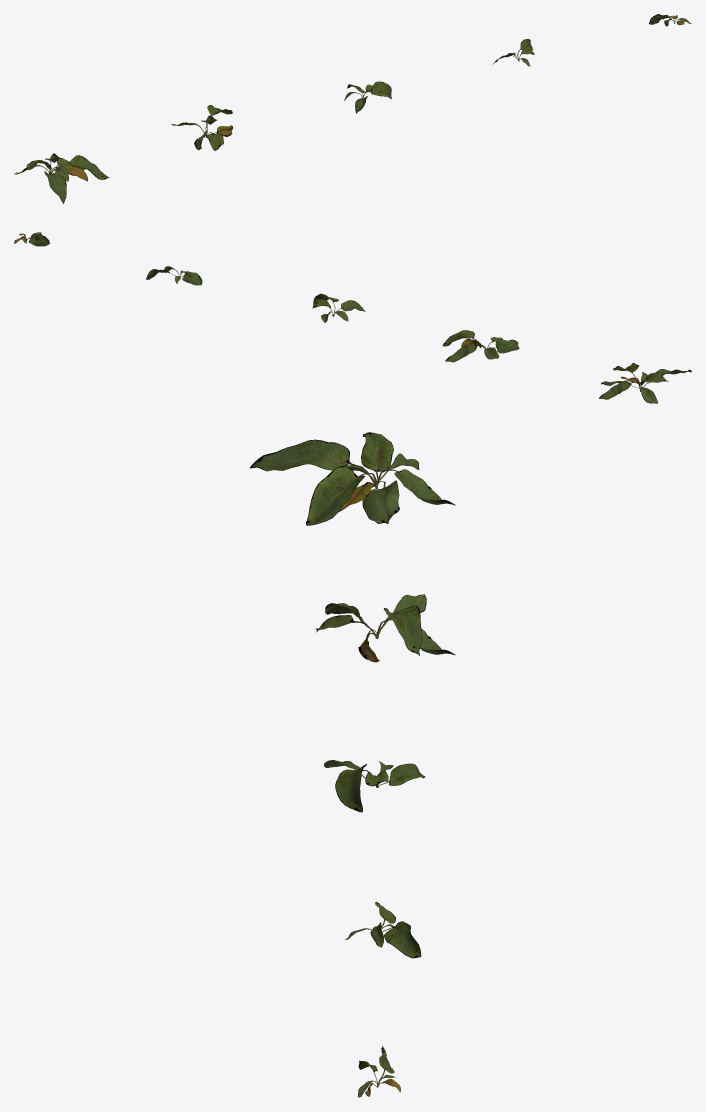
The model's file is weed_plant_02_1k_md.glb.
3 renders of one model, top to bottom at view 1: azimuth 30°, elevation 25°; view 2: azimuth 150°, elevation 25°; view 3: azimuth 270°, elevation 25°, orthographic. The views are drawn at different scales.
Parts seen in each view (by area): view 1: weed_plant_02_a_LOD0, weed_plant_02_b_LOD0, weed_plant_02_c_LOD0, weed_plant_02_d_LOD0; view 2: weed_plant_02_a_LOD0, weed_plant_02_b_LOD0, weed_plant_02_c_LOD0, weed_plant_02_d_LOD0, weed_plant_02_e_LOD0; view 3: weed_plant_02_a_LOD0, weed_plant_02_b_LOD0, weed_plant_02_c_LOD0, weed_plant_02_d_LOD0.
Part boxes in pixels (x1=…): weed_plant_02_a_LOD0: x1=14, y1=153, x2=109, y2=203; weed_plant_02_b_LOD0: x1=171, y1=105, x2=232, y2=150; weed_plant_02_c_LOD0: x1=344, y1=81, x2=391, y2=113; weed_plant_02_d_LOD0: x1=493, y1=39, x2=534, y2=66; weed_plant_02_a_LOD0: x1=599, y1=363, x2=691, y2=403; weed_plant_02_b_LOD0: x1=442, y1=330, x2=519, y2=362; weed_plant_02_c_LOD0: x1=312, y1=293, x2=365, y2=322; weed_plant_02_d_LOD0: x1=146, y1=266, x2=202, y2=285; weed_plant_02_e_LOD0: x1=14, y1=232, x2=49, y2=246; weed_plant_02_a_LOD0: x1=250, y1=432, x2=455, y2=525; weed_plant_02_b_LOD0: x1=315, y1=594, x2=455, y2=662; weed_plant_02_c_LOD0: x1=324, y1=760, x2=425, y2=812; weed_plant_02_d_LOD0: x1=345, y1=902, x2=421, y2=958.
Bounding box in the file's own units: 2.13 × 0.0751 × 0.2909.
1 material, 1 textured.
